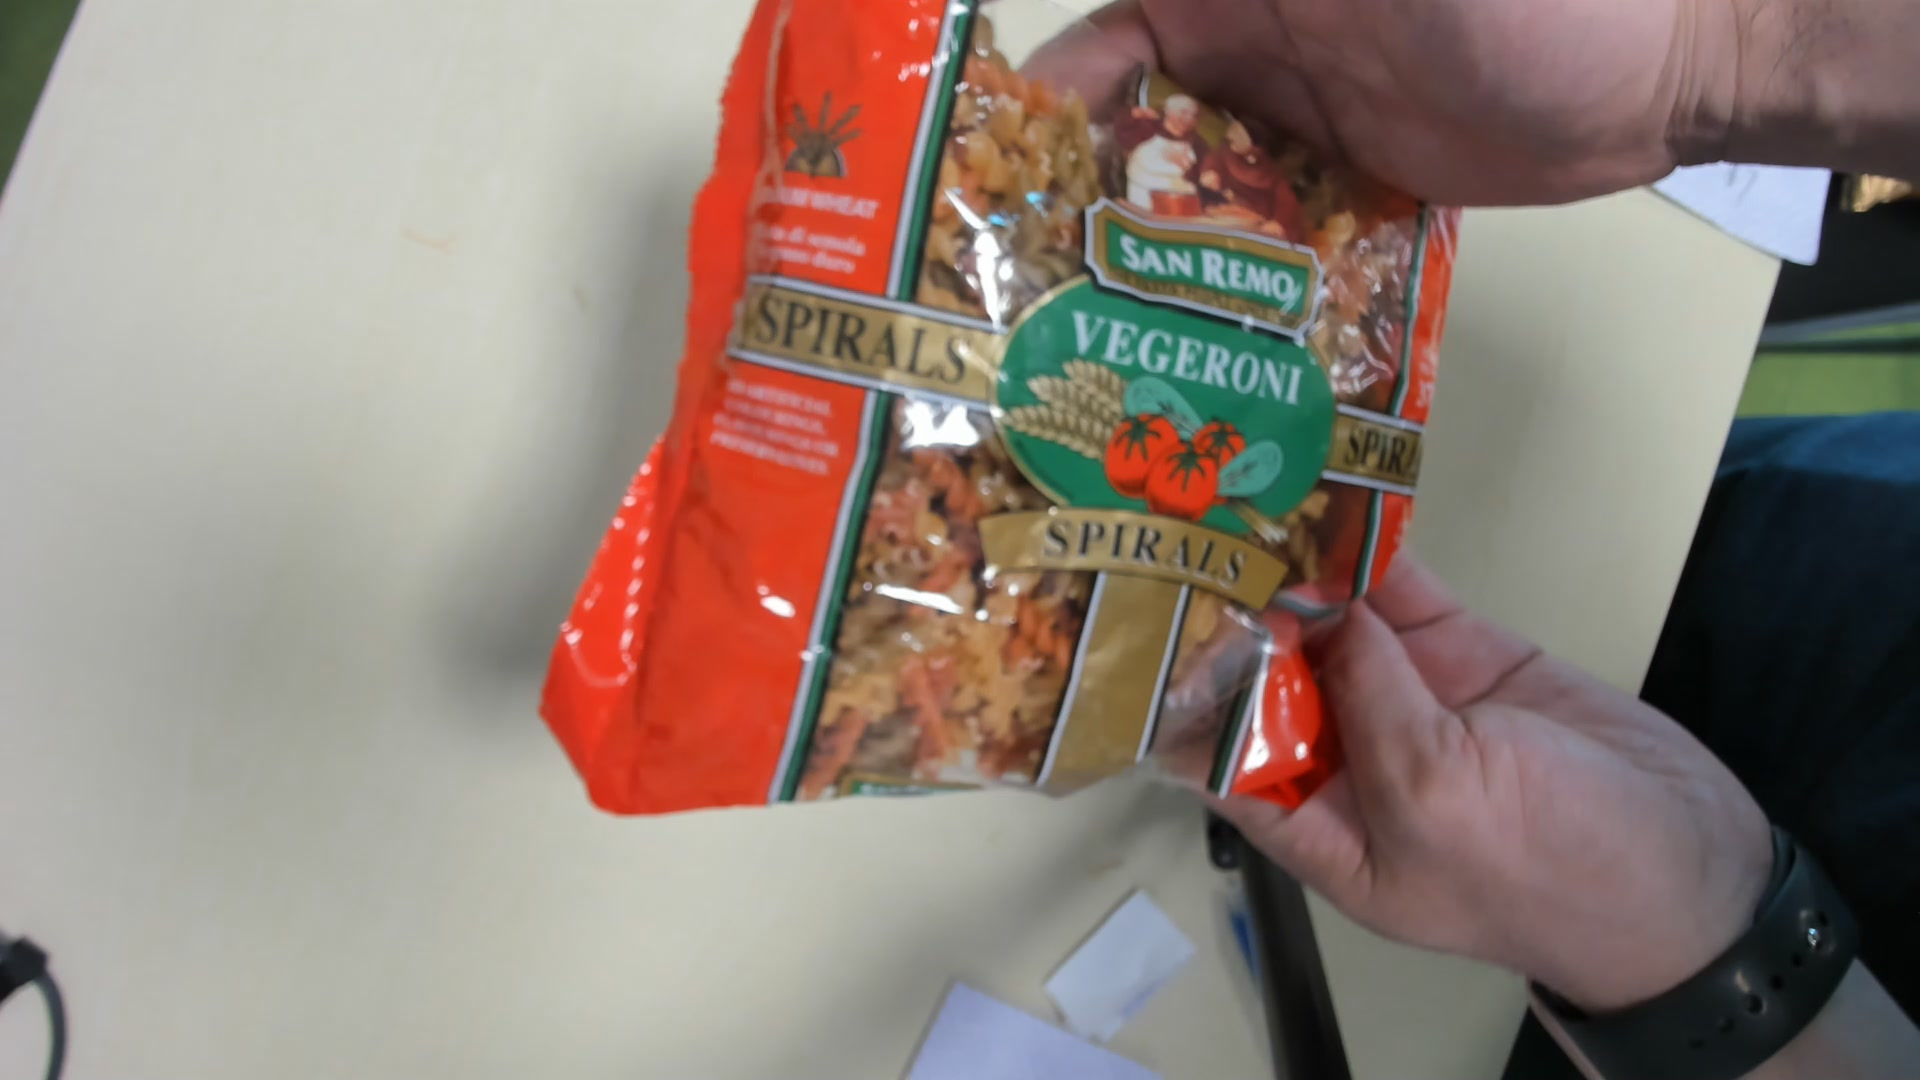Pasta_400-499g_Halal_NonHealthy: (549, 5, 1466, 827)
